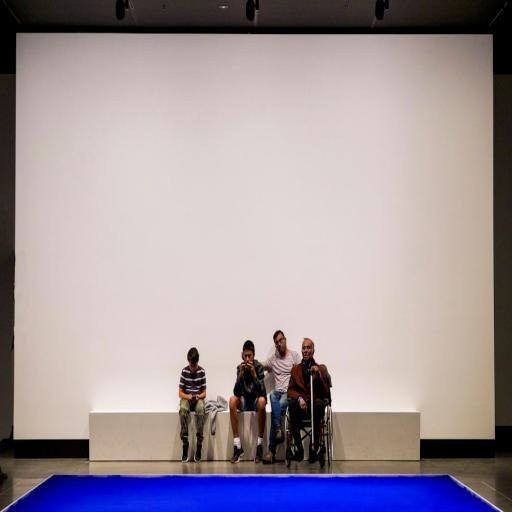face: (274, 333, 286, 356), (302, 340, 314, 361), (242, 350, 254, 364), (189, 362, 198, 373)
